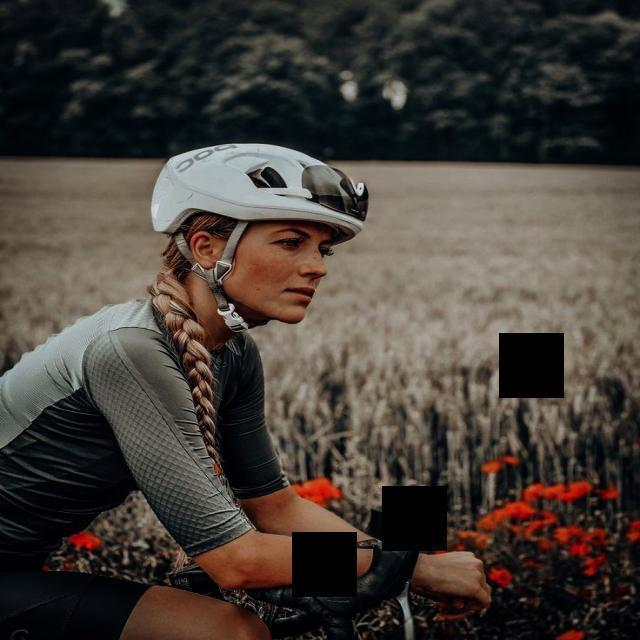helmet: (154, 142, 374, 334)
